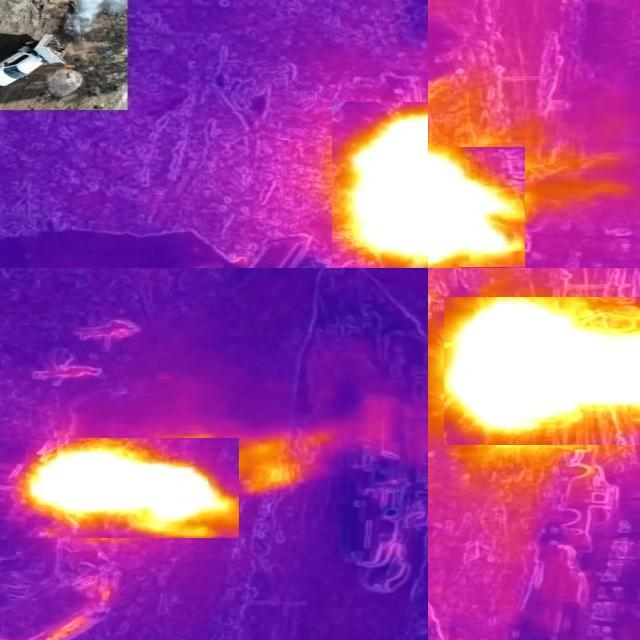fire: (444, 298, 640, 446), (26, 440, 239, 540), (332, 103, 429, 269), (429, 148, 525, 268)
